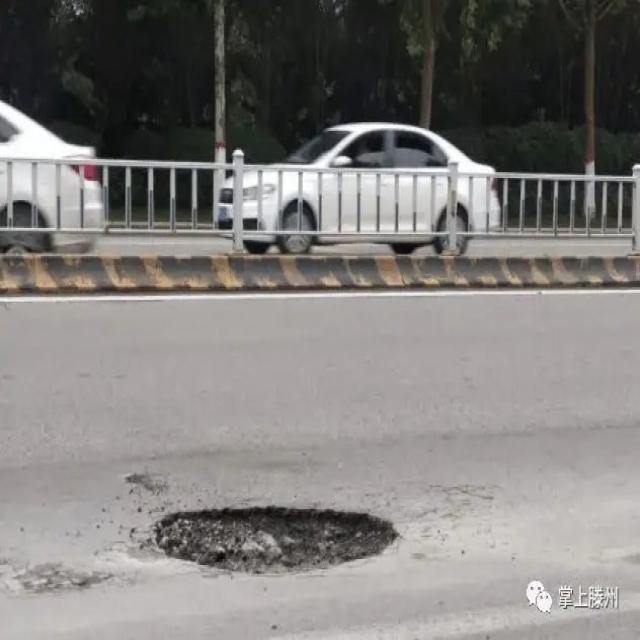Pothole: (150, 502, 407, 580)
